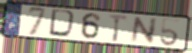5: (159, 17, 184, 48)
6: (80, 12, 102, 40)
7: (27, 5, 47, 38)
D: (47, 8, 79, 40)
N: (130, 16, 160, 45)
T: (107, 13, 129, 43)
